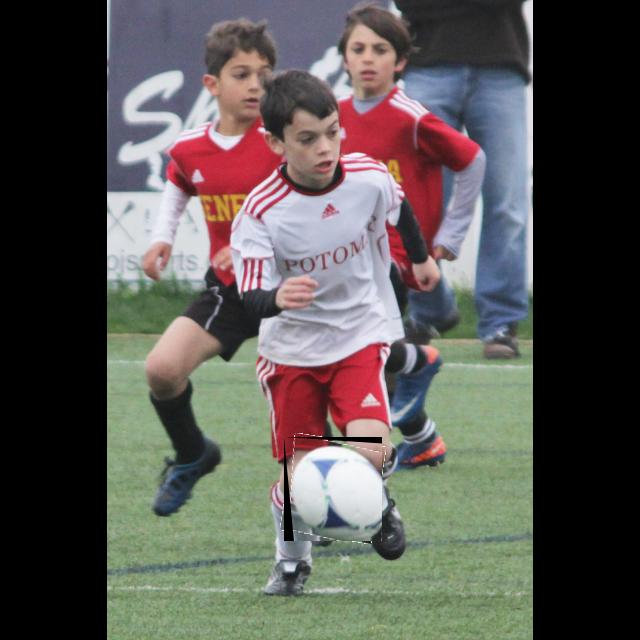Football: (284, 437, 382, 541)
